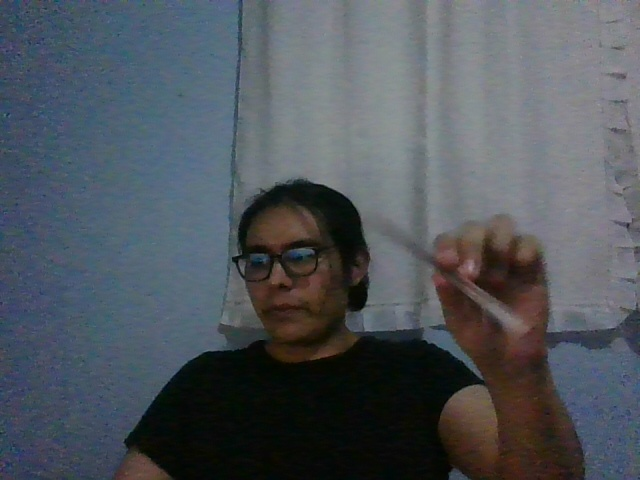pluma: (373, 213, 536, 341)
